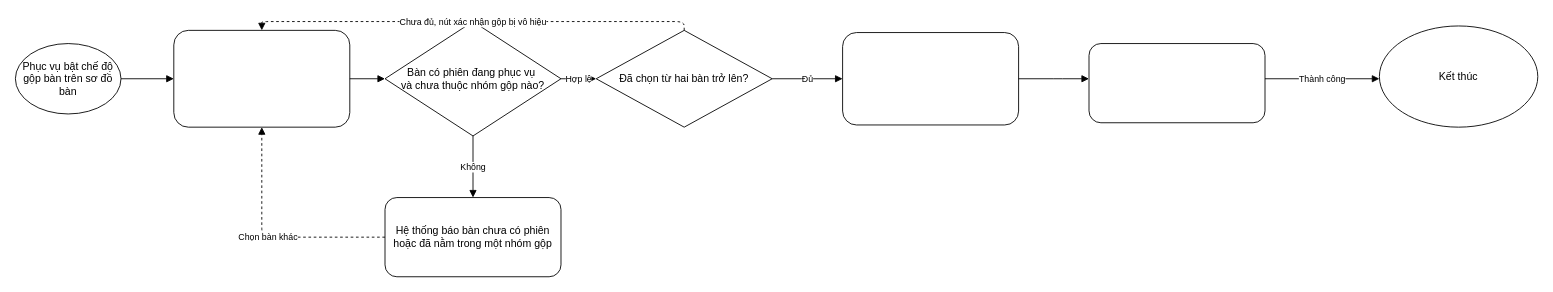
Some shapes in this 1553 by 292 pixel diagram are drawn without their labels. The shapes that lost their labels are listed below. From the top down, each one's box as (x1, y1, x2, y2) in pixels, then its label:
(173, 29, 350, 127): Chọn các bàn cần gộp trên sơ đồ
(842, 32, 1019, 125): Tạo nhóm gộp, ghi người thực hiện và ghi chú, gắn tất cả phiên đã chọn vào nhóm
(1088, 43, 1265, 123): Ghi nhận nhóm gộp vào
